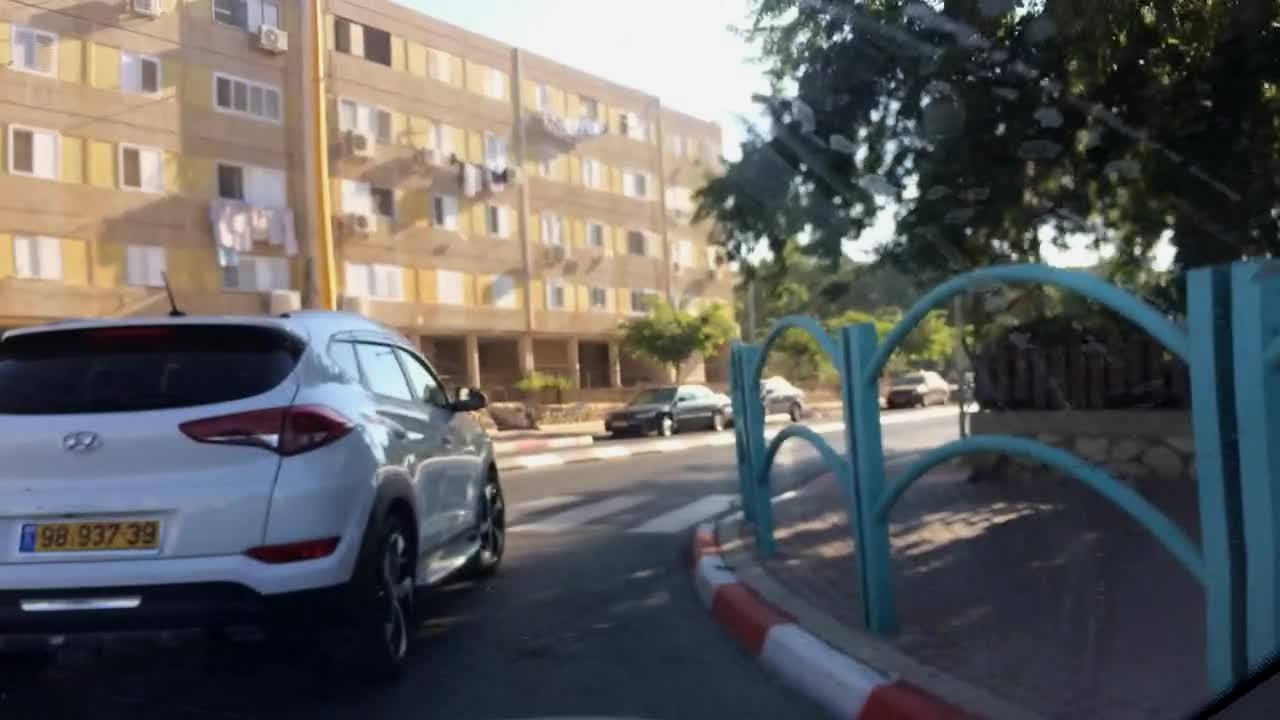Hyundai: (59, 427, 108, 461)
